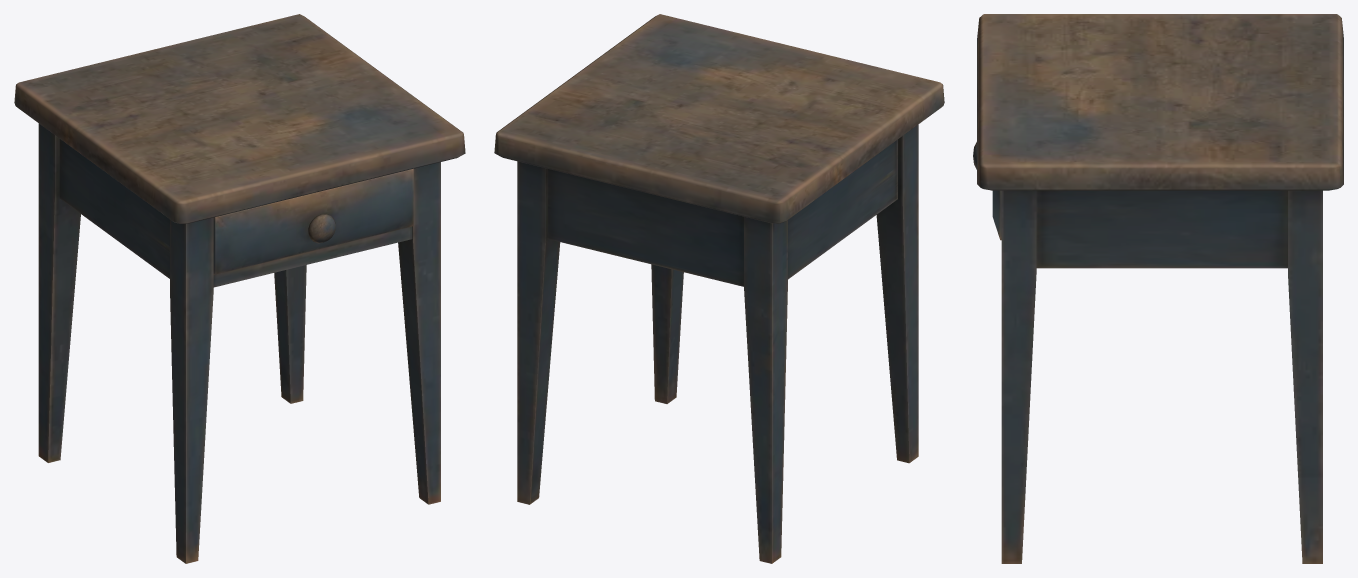
File: painted_wooden_nightstand.glb
3 views of the same model, side by side, from view 1: azimuth 30°, elevation 25°; view 2: azimuth 150°, elevation 25°; view 3: azimuth 270°, elevation 25° (orthographic). The views are drawn at different scales.
Parts seen in each view (by area): view 1: painted_wooden_nightstand, painted_wooden_nightstand_drawer; view 2: painted_wooden_nightstand; view 3: painted_wooden_nightstand, painted_wooden_nightstand_drawer.
Boxes of the visible parts, x1,y1,x2,y2 form: painted_wooden_nightstand: (14,14,465,563); painted_wooden_nightstand_drawer: (213,168,413,274); painted_wooden_nightstand: (494,14,944,563); painted_wooden_nightstand: (977,14,1343,563); painted_wooden_nightstand_drawer: (973,142,1001,240).
Bounding box in the file's own units: 0.5045 × 0.6155 × 0.5087.
1 material, 1 textured.
